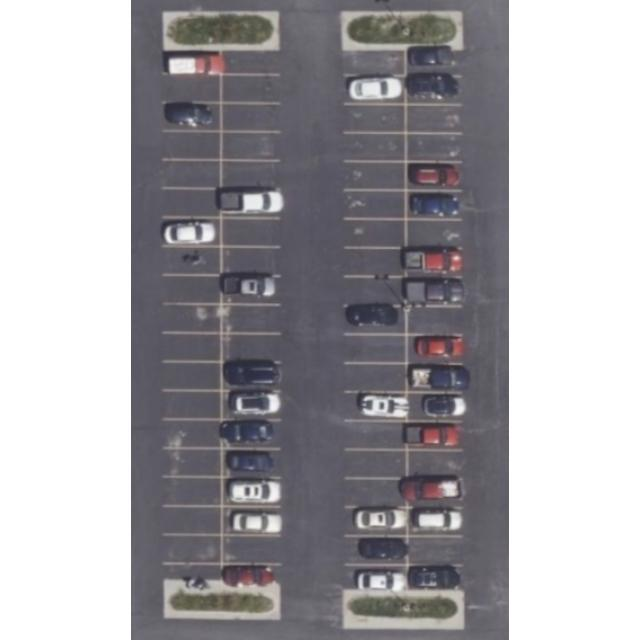Empty: (344, 218, 408, 248), (344, 276, 406, 306), (162, 332, 222, 362), (346, 362, 406, 392), (346, 246, 406, 276), (346, 160, 406, 190), (345, 419, 407, 448), (162, 72, 222, 101), (163, 188, 221, 218), (164, 274, 222, 304), (163, 362, 223, 391), (164, 390, 222, 420), (164, 534, 222, 564), (346, 333, 406, 362), (345, 105, 405, 134), (223, 305, 280, 335), (223, 536, 280, 566), (223, 332, 280, 362), (347, 479, 408, 507), (347, 190, 408, 218), (164, 419, 222, 448), (164, 478, 222, 507), (165, 130, 221, 160), (223, 160, 279, 190), (162, 246, 222, 274), (348, 450, 408, 478), (345, 131, 405, 159), (346, 48, 406, 76), (222, 75, 280, 103), (163, 160, 221, 188), (221, 219, 279, 247), (164, 449, 222, 477), (164, 506, 222, 534), (406, 306, 464, 334), (222, 246, 280, 274), (408, 132, 462, 162), (163, 304, 220, 332), (223, 103, 279, 131), (407, 537, 463, 565), (407, 105, 461, 134), (224, 131, 278, 159), (408, 219, 462, 247), (410, 450, 462, 478), (222, 51, 278, 75)
Parked: (222, 274, 282, 306), (345, 506, 407, 536), (345, 391, 407, 421), (344, 304, 406, 334), (221, 189, 281, 219), (161, 216, 221, 246), (222, 362, 282, 392), (222, 390, 282, 420), (222, 448, 282, 478), (346, 74, 406, 104), (344, 536, 408, 564), (224, 506, 282, 536), (162, 102, 222, 130), (406, 478, 462, 508), (407, 420, 463, 450), (406, 276, 462, 306), (406, 248, 462, 278), (222, 420, 280, 448), (223, 478, 281, 506), (406, 333, 462, 362), (408, 392, 462, 422), (408, 363, 462, 393), (408, 160, 462, 190), (406, 191, 462, 219), (407, 76, 463, 104), (407, 48, 463, 76), (408, 508, 462, 536), (346, 565, 408, 589), (410, 565, 464, 591), (164, 51, 222, 75), (223, 564, 281, 586)
